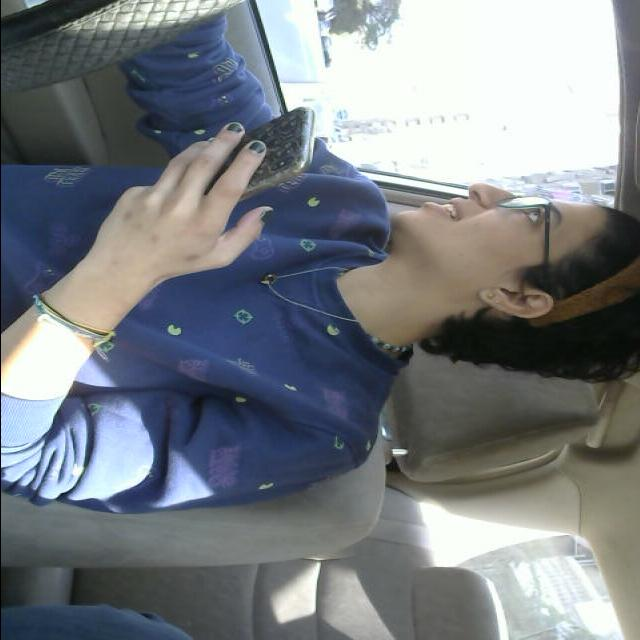mobile use: (178, 106, 318, 200)
